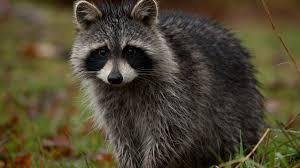raccoon: (41, 0, 298, 168)
